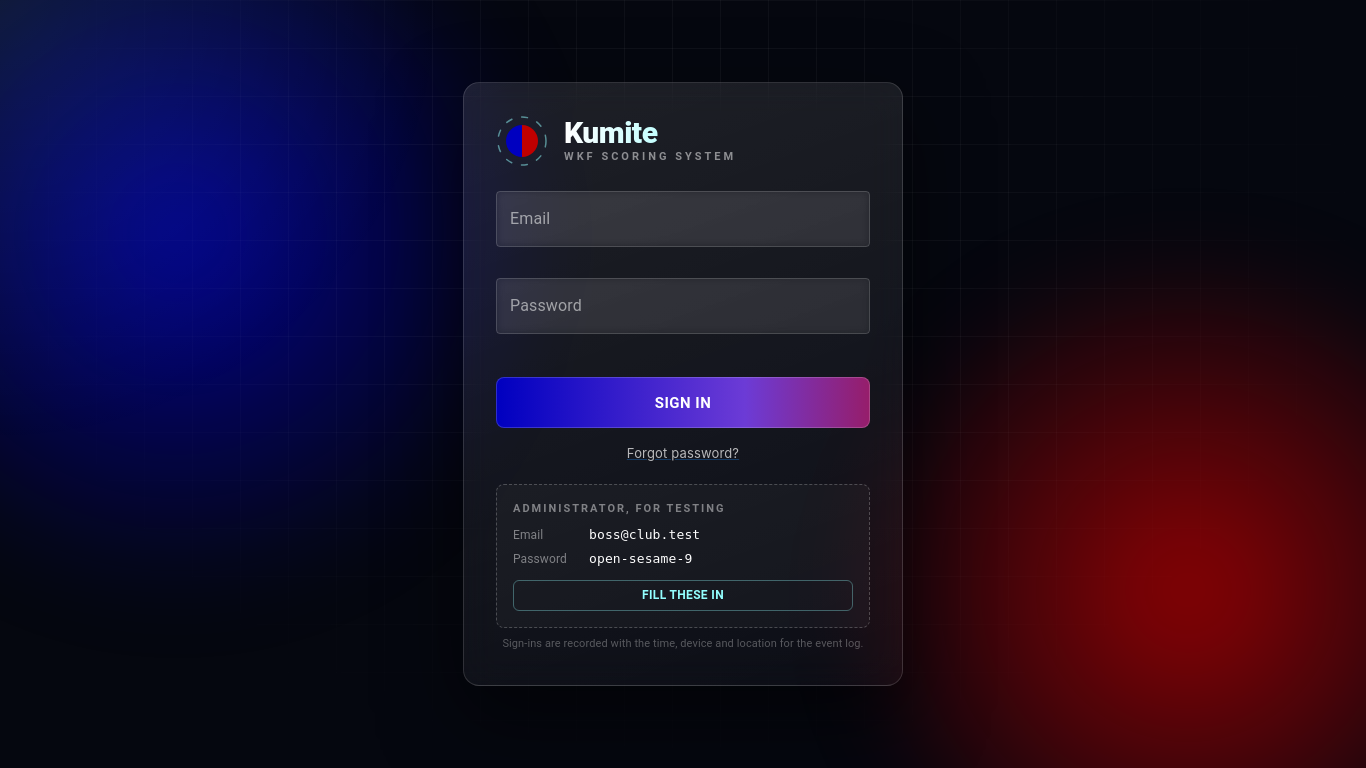
Scenario: Login › says the password is wrong only when the API says so
Step 1. Type "ref@club.test" into the field labelled "Email" → (683, 219), box [496,191,870,247]
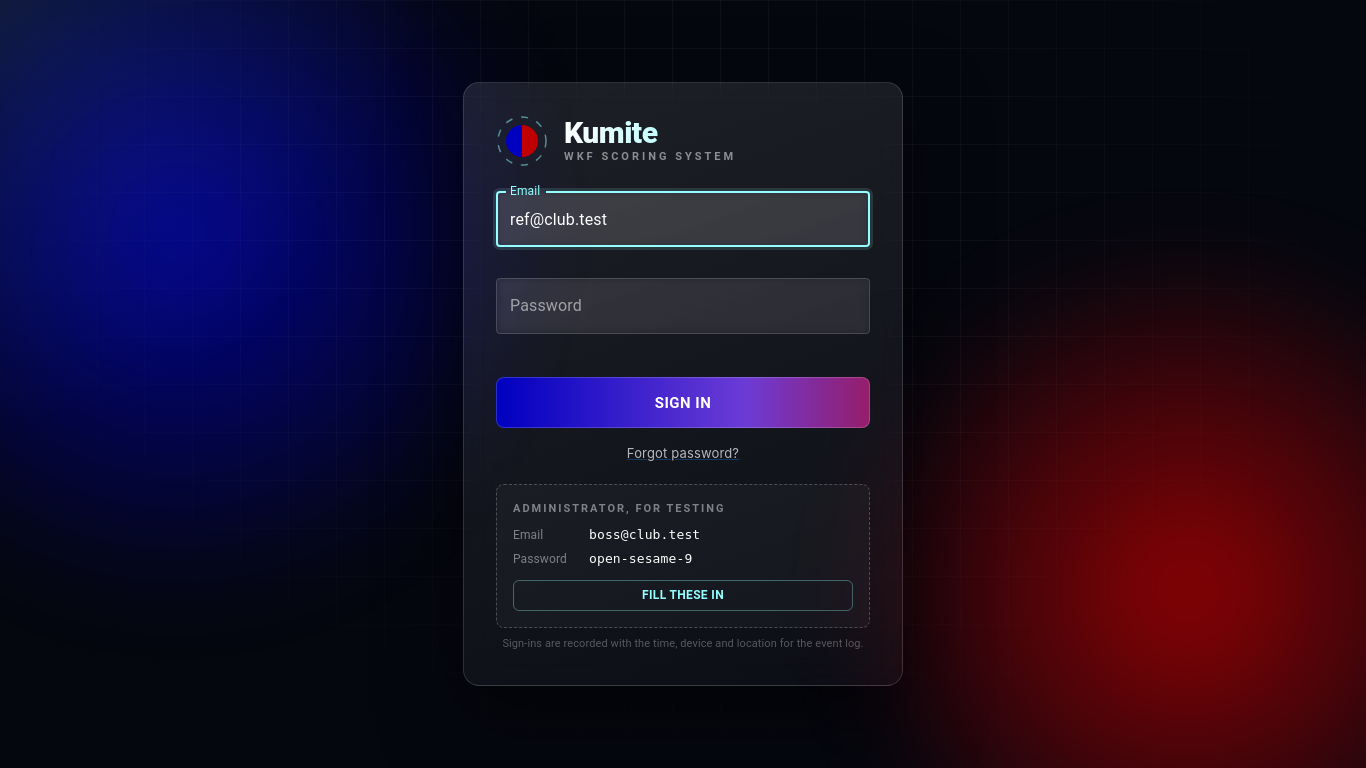
Step 2. Type "correct horse" into the password field labelled "Password" → (683, 306), box [496,278,870,334]
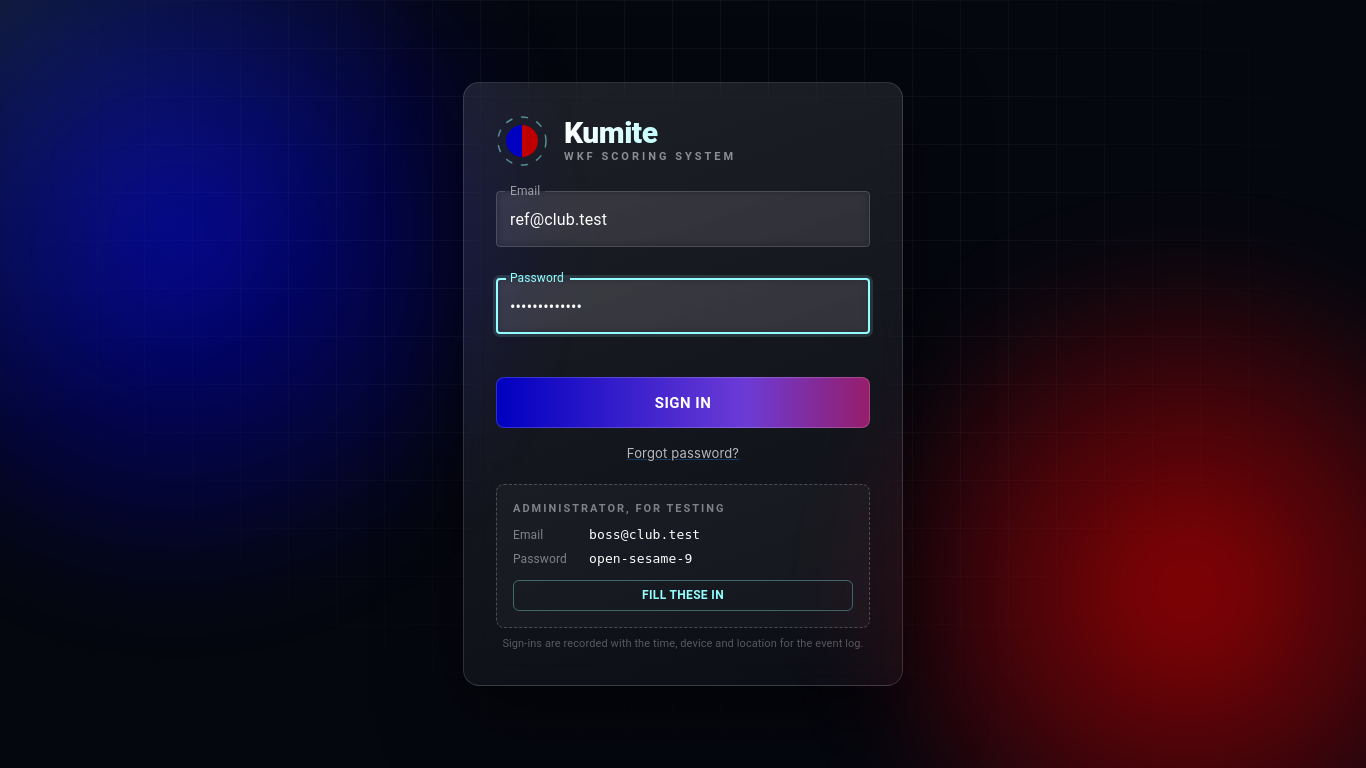
Step 3. Click the button "Sign in" → click(683, 402), box [496,377,870,428]
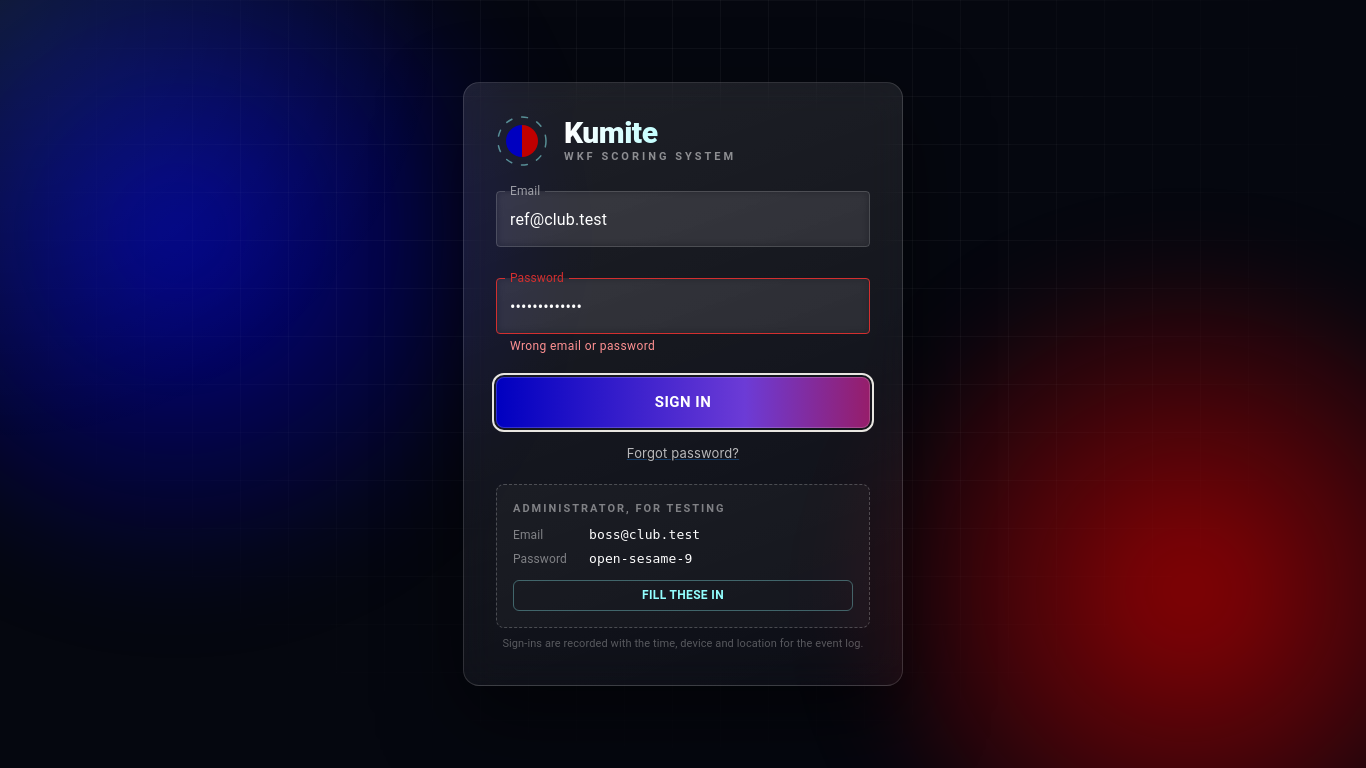
Now the text "Wrong email or password" is shown, box [510,339,655,353]
